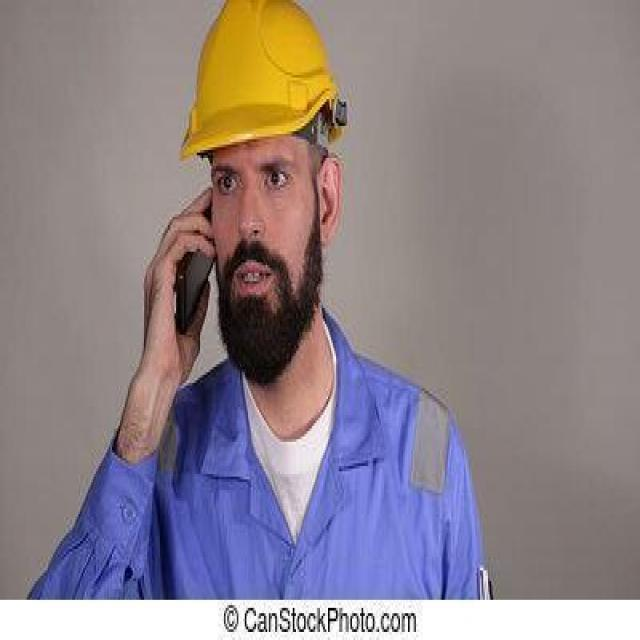hat: (179, 0, 347, 161)
